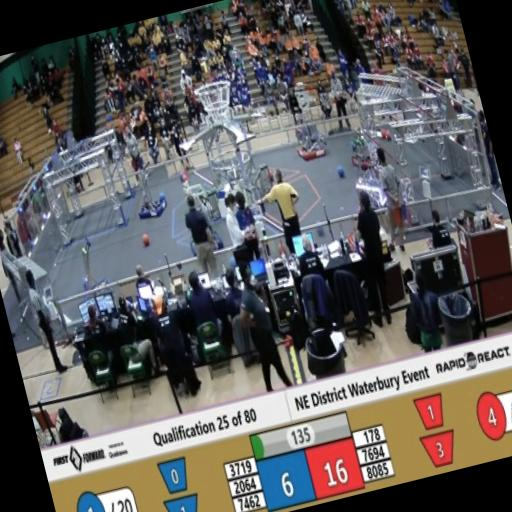robot: (176, 173, 226, 257), (122, 152, 172, 228), (70, 232, 114, 300), (288, 106, 334, 168), (349, 162, 398, 216), (341, 117, 384, 174)
